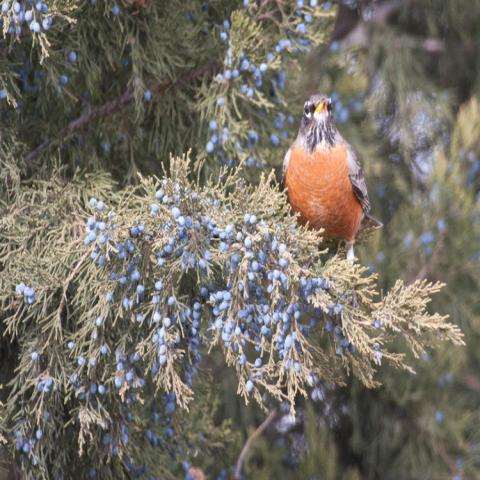bird: (278, 90, 382, 264)
